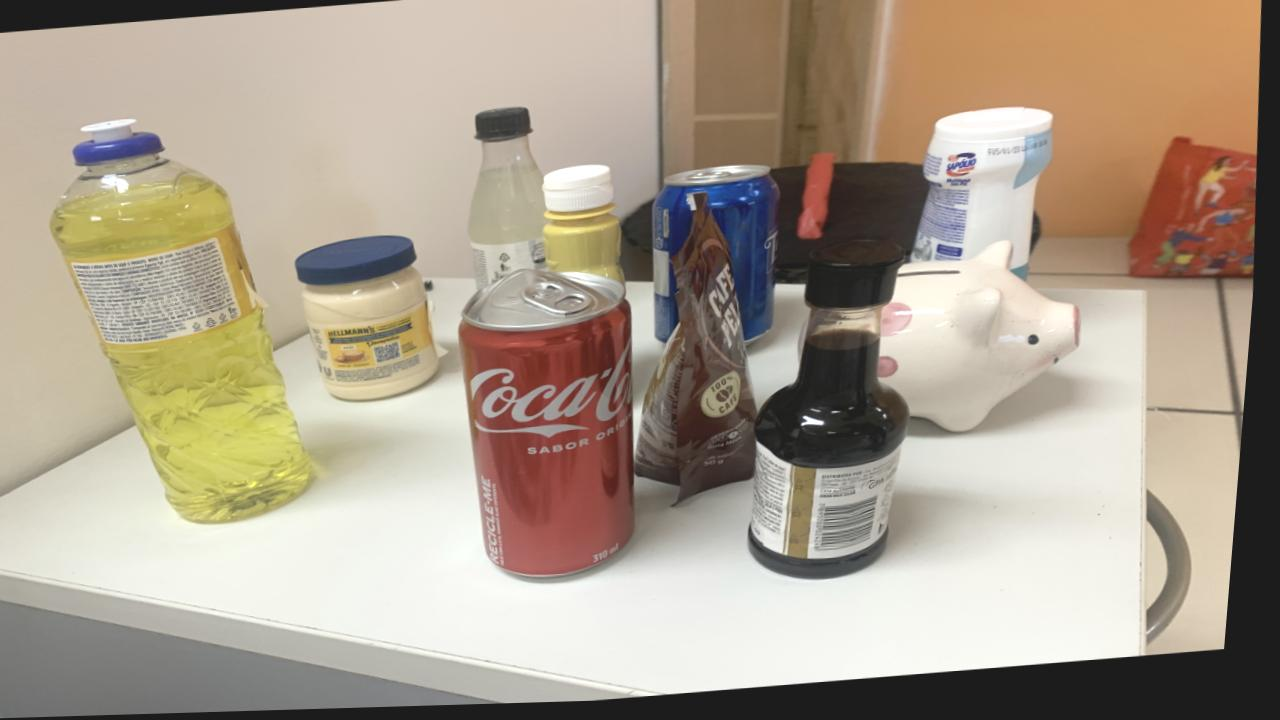Cleaner-Cleanup_Items: (916, 113, 1055, 284)
Coffee-Pantry_Items: (643, 196, 764, 508)
Coke-Drinks: (464, 273, 643, 580)
Detergent-Cleanup_Items: (53, 120, 320, 525)
English_Sauce-Pantry_Items: (757, 247, 916, 584)
Mayonnaise-Pantry_Items: (300, 237, 447, 403)
Mustard-Pantry_Items: (546, 168, 628, 286)
Pig_Safe-Miscellaneous: (884, 246, 1085, 438)
Soda-Drinks: (471, 110, 550, 292)
Tonic-Drinks: (656, 171, 781, 347)
